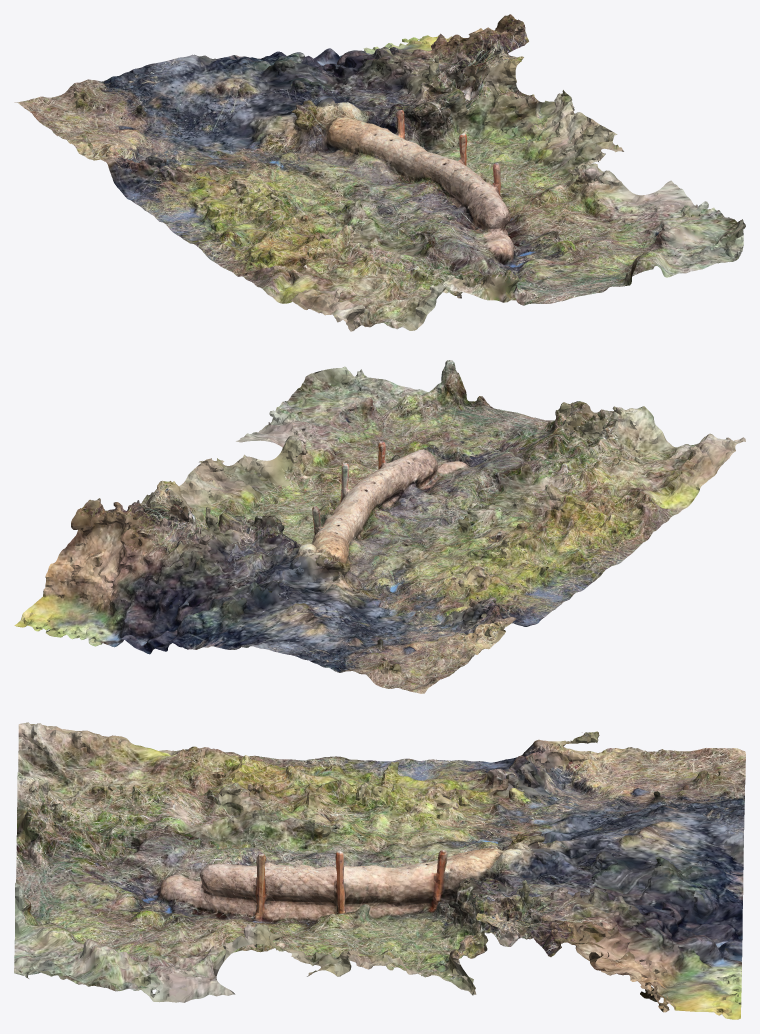
Rendered from Coir_Logs.glb.
3 views of the same model, one above another, from view 1: azimuth 30°, elevation 25°; view 2: azimuth 150°, elevation 25°; view 3: azimuth 270°, elevation 25° (orthographic). The views are drawn at different scales.
Bounding box in the file's own units: 5.18 × 0.8939 × 6.88.
Materials: 2 (2 with a texture image).
